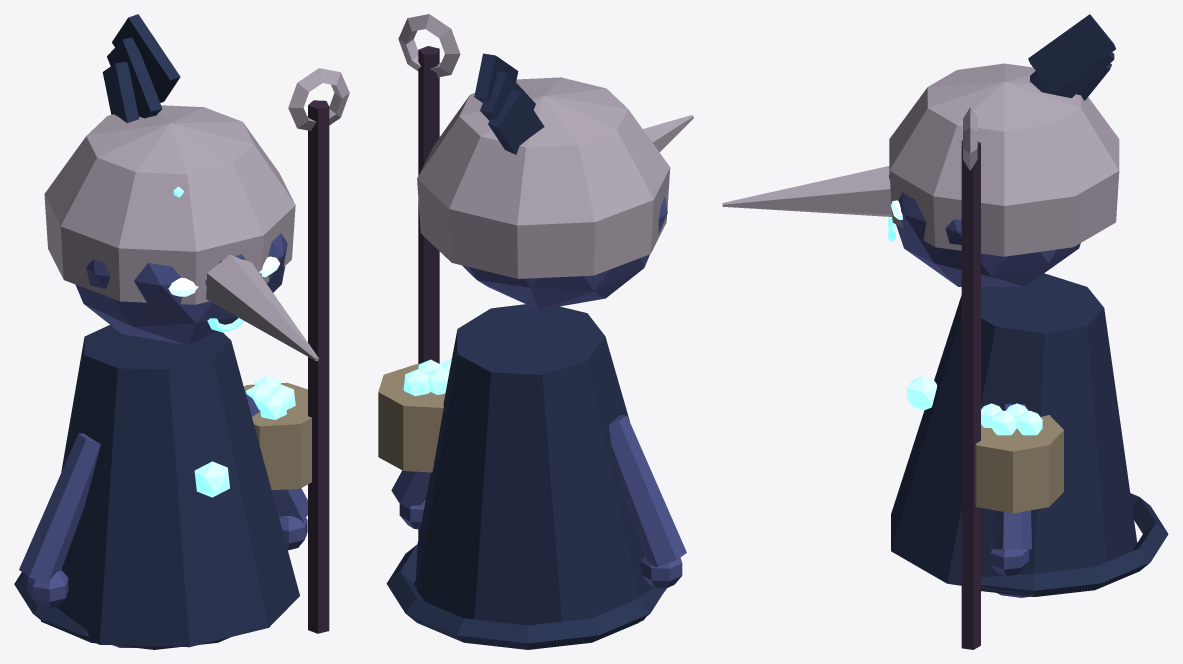
File: compteur_modele.glb
The picture shows the model from 3 angles, left to right: view 1: azimuth 30°, elevation 25°; view 2: azimuth 150°, elevation 25°; view 3: azimuth 270°, elevation 25°; orthographic projection. The views are drawn at different scales.
Parts seen in each view (by area): view 1: Robe_Compteur, Masque_Compteur, P29.001, Crane_Compteur, P8.006, Bec_Compteur, Sacoche_Compteur, P23.004, P30.001, P22.003, P21.003, P4.006 (+5 smaller); view 2: Robe_Compteur, Masque_Compteur, P4.006, Sacoche_Compteur, P8.006, P29.001, Crane_Compteur, P21.003, P30.001, P6.006, P23.004, P22.003 (+5 smaller); view 3: Robe_Compteur, Masque_Compteur, P29.001, Sacoche_Compteur, Crane_Compteur, P4.006, Bec_Compteur, P23.004, P6.006, P22.003, P7.006, Coeur_Compteur (+1 smaller).
Part boxes in pixels (x1,y1,x2,y2): Robe_Compteur: (41,325,299,647); Masque_Compteur: (44,105,295,304); P29.001: (308,100,329,633); Crane_Compteur: (75,233,287,345); P8.006: (19,433,100,583); Bec_Compteur: (206,254,318,361); Sacoche_Compteur: (244,382,311,490); P23.004: (112,14,180,102); P30.001: (288,68,349,130); P22.003: (107,37,162,118); P21.003: (102,61,139,123); P4.006: (14,572,229,649); Robe_Compteur: (413,304,666,625); Masque_Compteur: (417,77,670,278); P4.006: (386,544,666,649); Sacoche_Compteur: (378,364,445,472); P8.006: (609,415,686,566); P29.001: (418,46,439,538); Crane_Compteur: (462,197,667,309); P21.003: (488,89,544,154); P30.001: (398,14,460,77); P6.006: (391,393,445,507); P23.004: (474,53,518,102); P22.003: (480,71,535,120); Robe_Compteur: (891,273,1137,596); Masque_Compteur: (889,63,1119,256); P29.001: (961,140,980,649); Sacoche_Compteur: (975,415,1063,513); Crane_Compteur: (889,174,1080,286); P4.006: (981,493,1168,596); Bec_Compteur: (722,166,892,216); P23.004: (1028,14,1115,93); P6.006: (993,404,1031,549); P22.003: (1030,52,1114,98); P7.006: (990,541,1028,575); Coeur_Compteur: (907,376,936,410).
Bounding box in the file's own units: 1.04 × 1.95 × 1.38.
